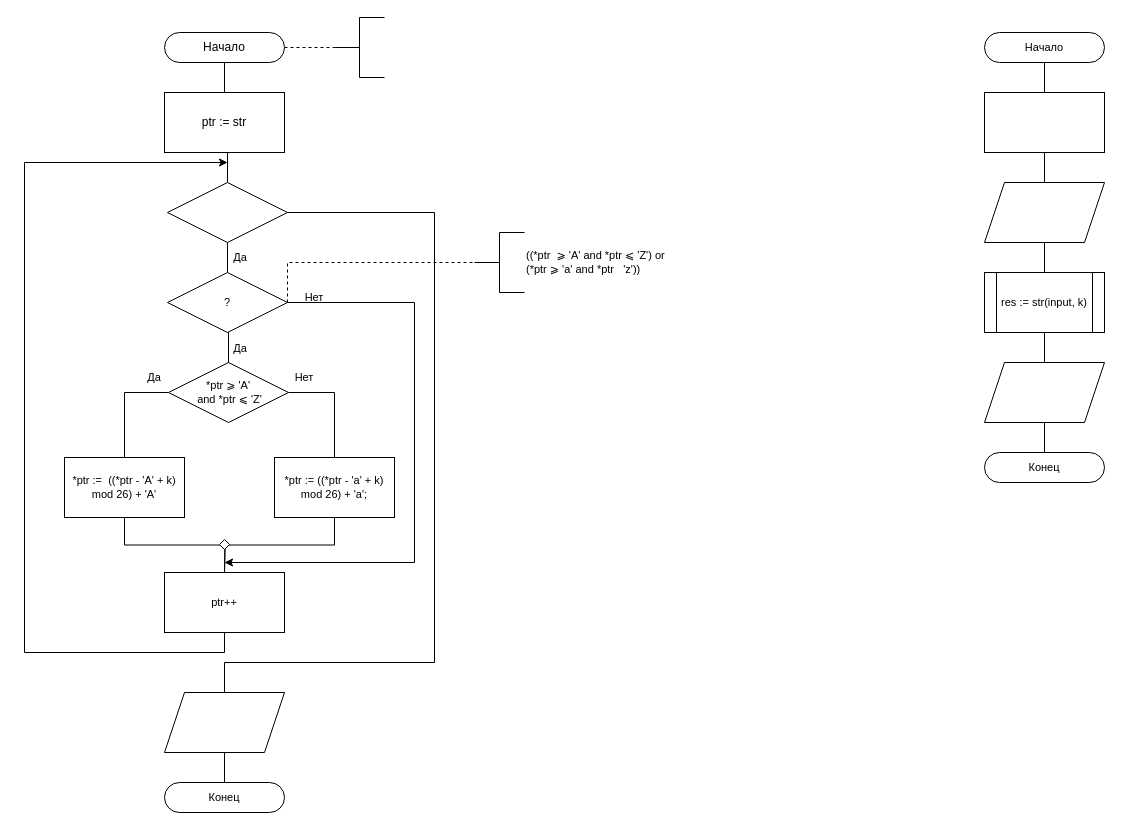
This 1122x830 diagram has some shape labels left out. The shapes that lost their labels are listed below. From the top down, each one's centre as x and y in pixels, then its label:
point (359, 47): char* str(char* str, int k)
point (1044, 122): input[100], k
point (227, 212): *ptr ≠ 0
point (1044, 212): input, k
point (1044, 392): res
point (224, 722): str
